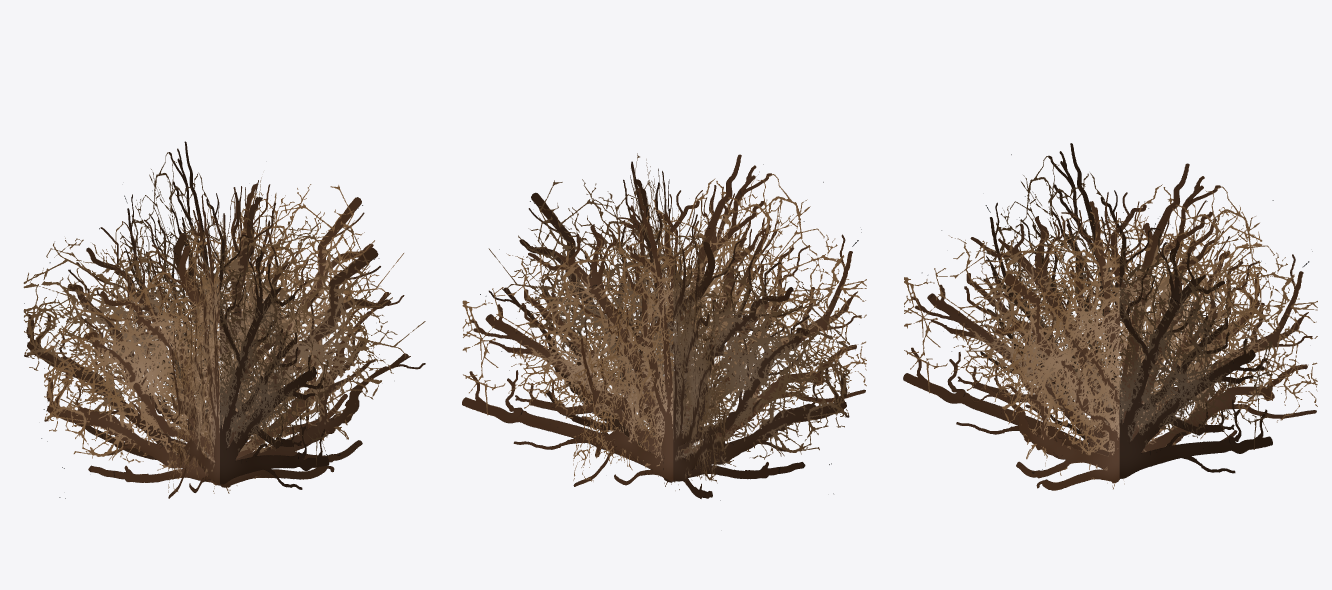
The model's file is deadShrub2.fbx.
The picture shows the model from 3 angles, left to right: view 1: azimuth 30°, elevation 25°; view 2: azimuth 150°, elevation 25°; view 3: azimuth 270°, elevation 25°; orthographic projection.
Parts seen in each view (by area): view 1: Shrub2; view 2: Shrub2; view 3: Shrub2.
Boxes of the visible parts, x1=… form: Shrub2: x1=23, y1=141, x2=425, y2=498; Shrub2: x1=462, y1=153, x2=866, y2=500; Shrub2: x1=903, y1=143, x2=1317, y2=490.
Bounding box in the file's own units: 129 × 129 × 129.
